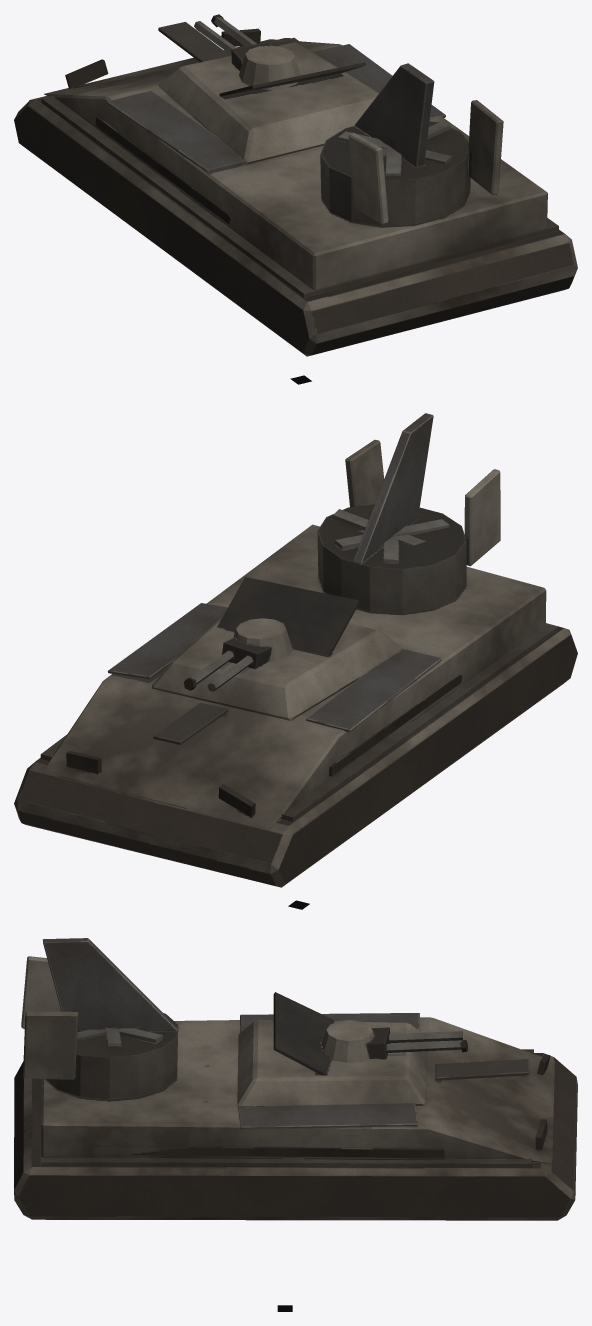
Rendered from ord_dart_wreck.fbx.
3 renders of one model, top to bottom at view 1: azimuth 30°, elevation 25°; view 2: azimuth 150°, elevation 25°; view 3: azimuth 270°, elevation 25°, orthographic. The views are drawn at different scales.
Visible parts, largest first — view 1: base_bar, turret_bar, fan1_bar; view 2: base_bar, turret_bar, fan1_bar; view 3: base_bar, turret_bar, fan1_bar.
Boxes of the visible parts, box(x1,y1,x2,y2) form: base_bar: box(14, 22, 577, 356); turret_bar: box(194, 14, 300, 90); fan1_bar: box(338, 121, 452, 175); base_bar: box(14, 413, 577, 887); turret_bar: box(184, 618, 292, 691); fan1_bar: box(333, 509, 449, 563); base_bar: box(14, 938, 577, 1220); turret_bar: box(321, 1020, 467, 1062); fan1_bar: box(77, 1028, 162, 1046).
Size of the model in its own units: 381 by 533 by 739.
Materials: 2 (2 with a texture image).
